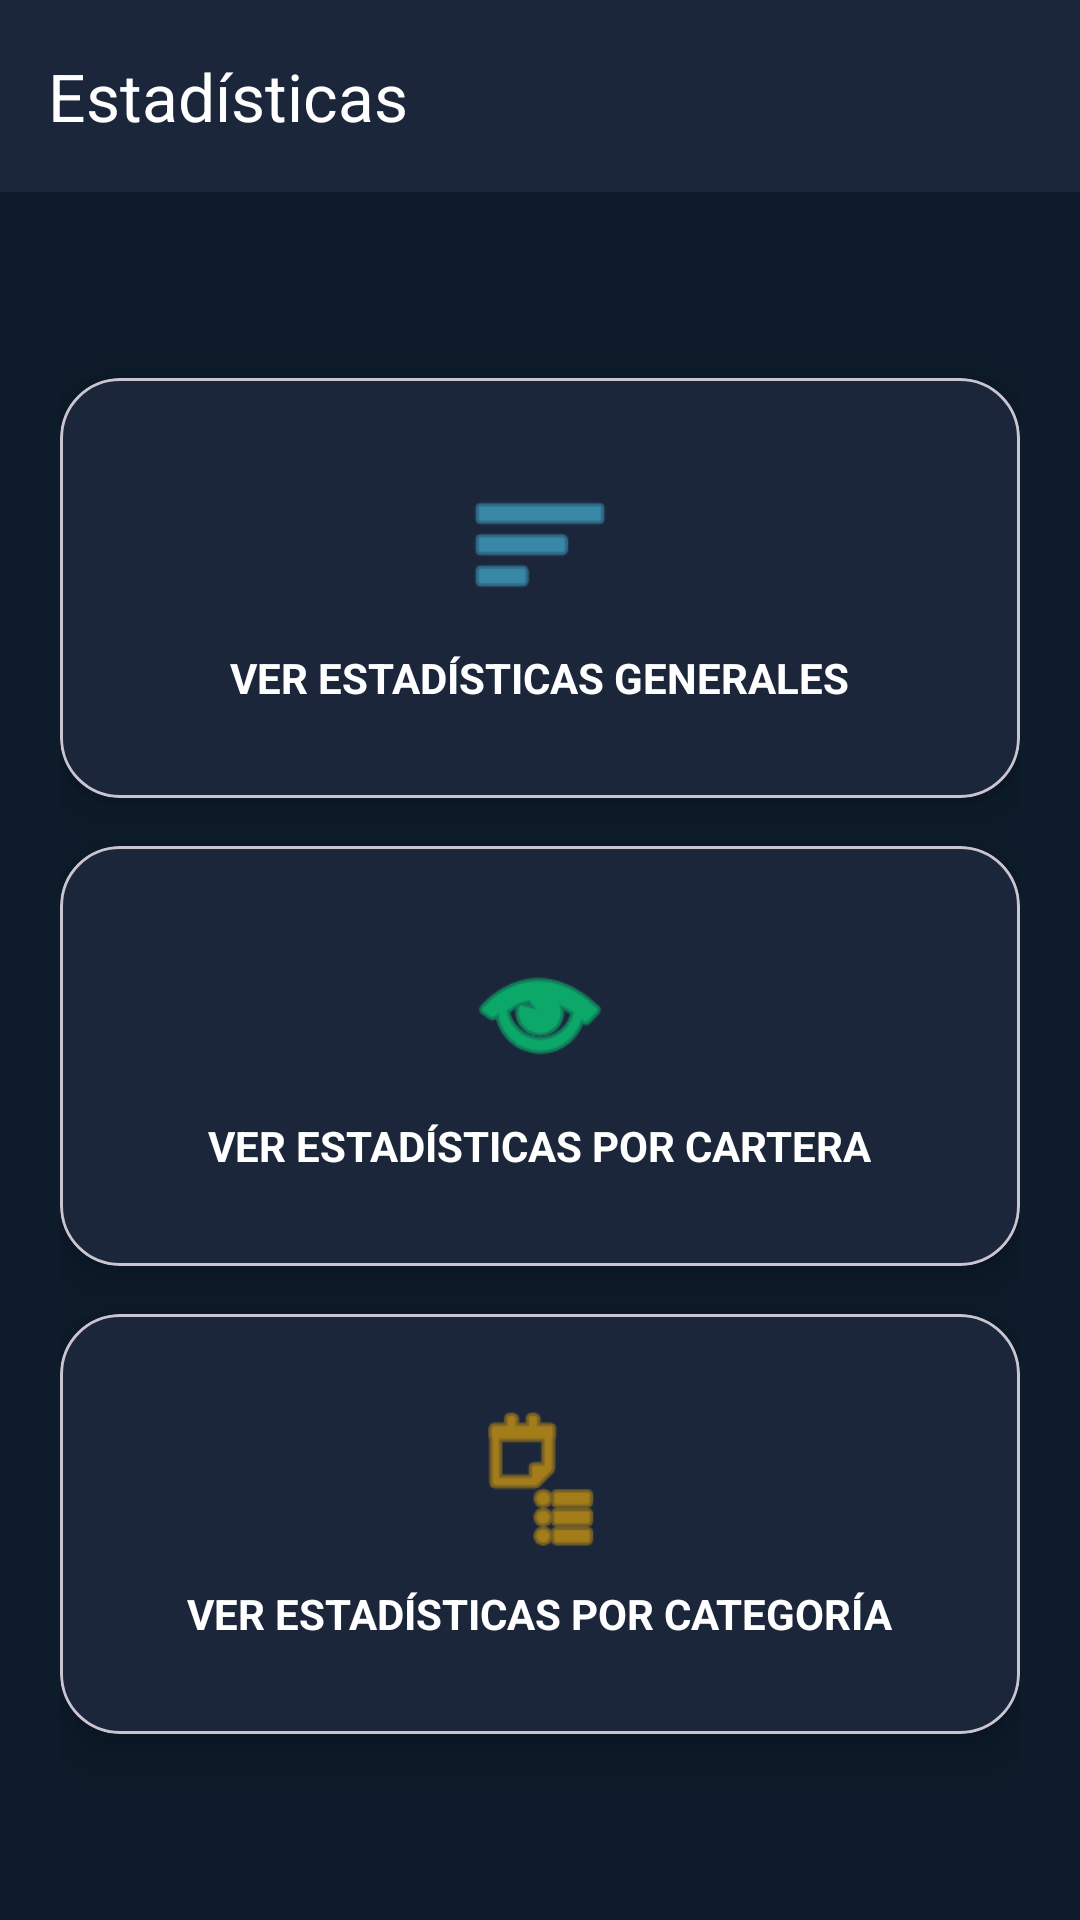

Where icons sit on this 1080 x 1920 app screen, as (x1, y1, x2, y2):
agenda: (488, 1412, 593, 1546)
sort by size: (475, 503, 605, 587)
view: (479, 977, 601, 1054)
